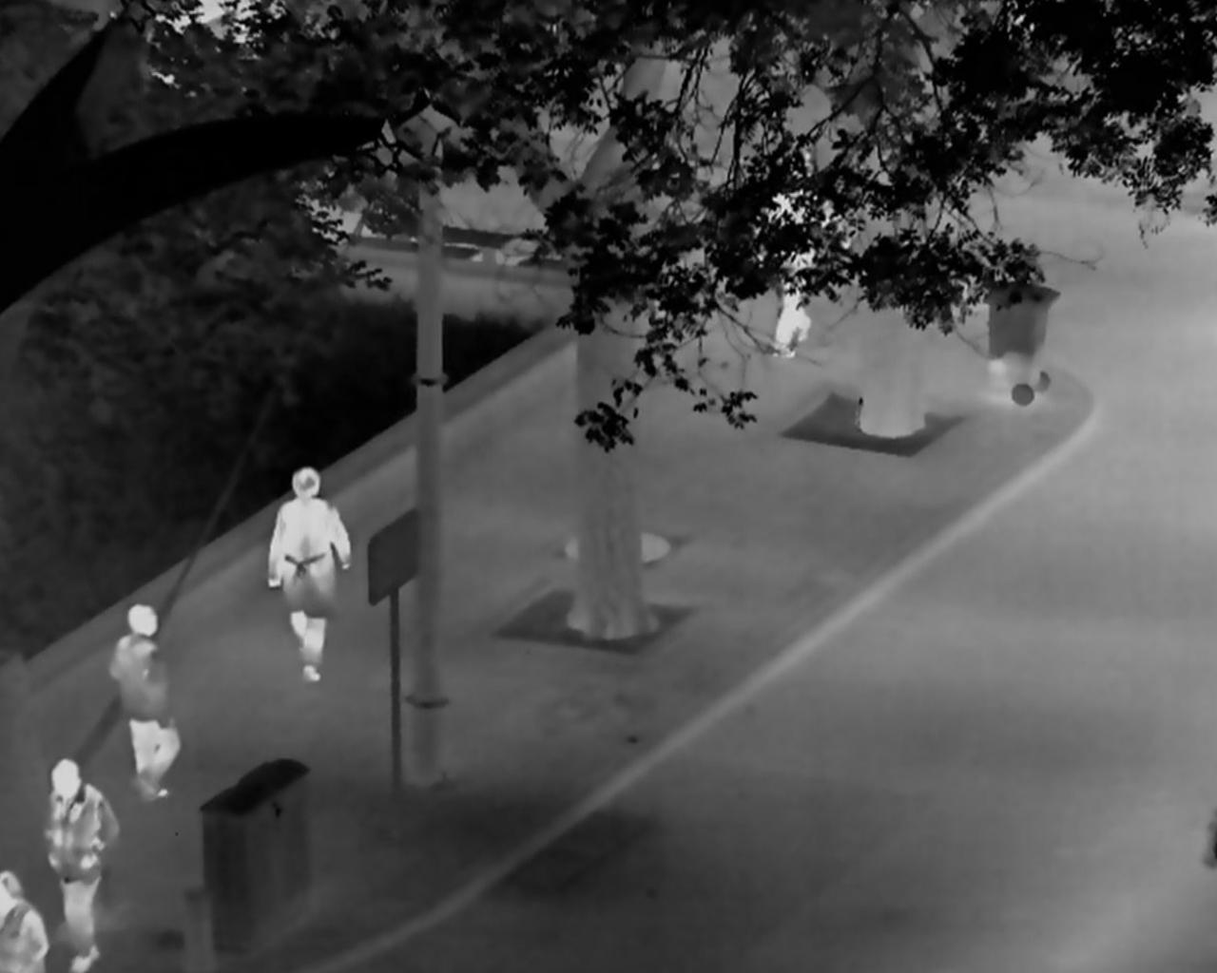person: (754, 146, 853, 360), (265, 465, 353, 681), (39, 756, 123, 972), (107, 601, 184, 803)
